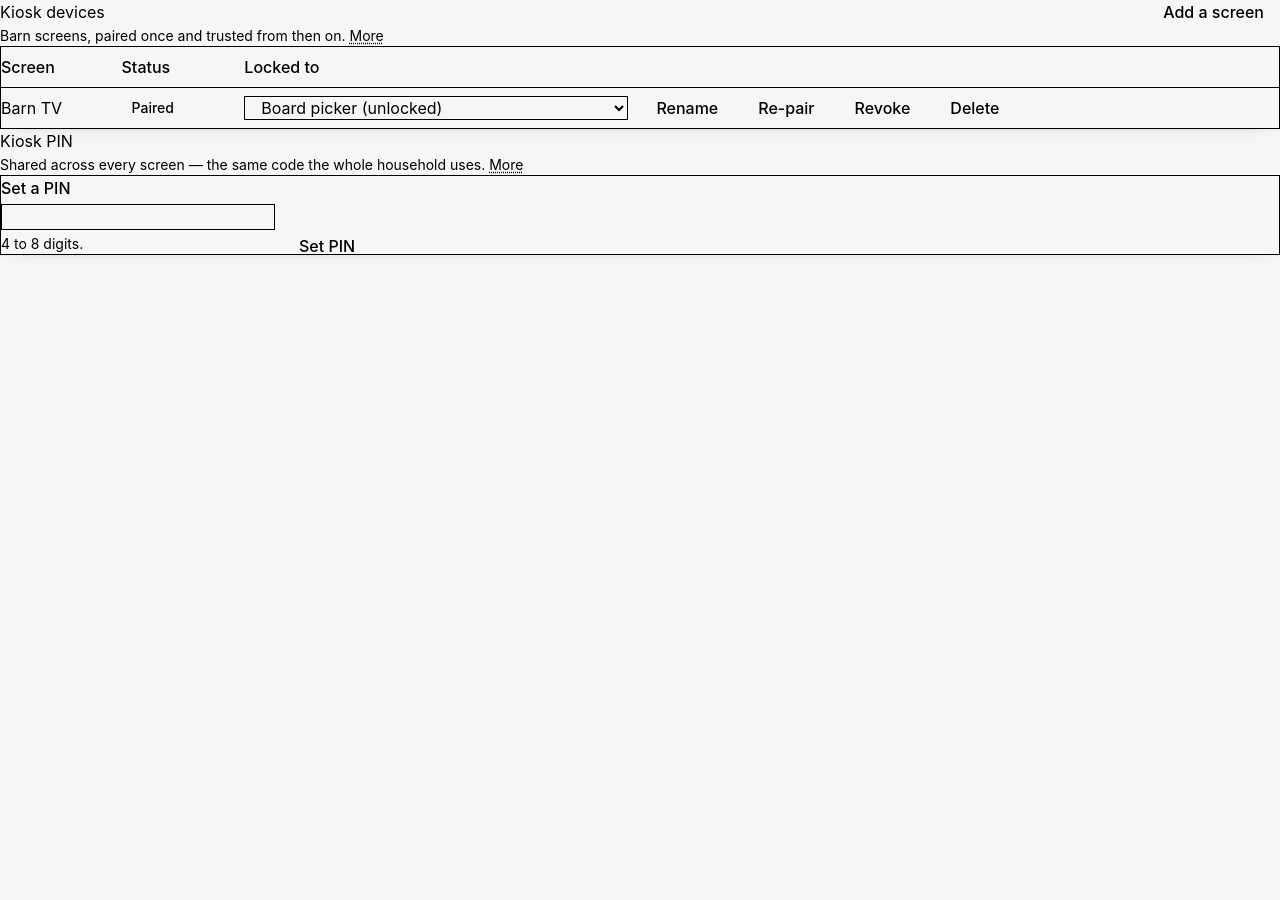
Test: deleting a screen › says a live screen goes dark, and that a restore brings it back
Click the button "Delete".
click(975, 108)  # box left=934, top=100, right=1015, bottom=116
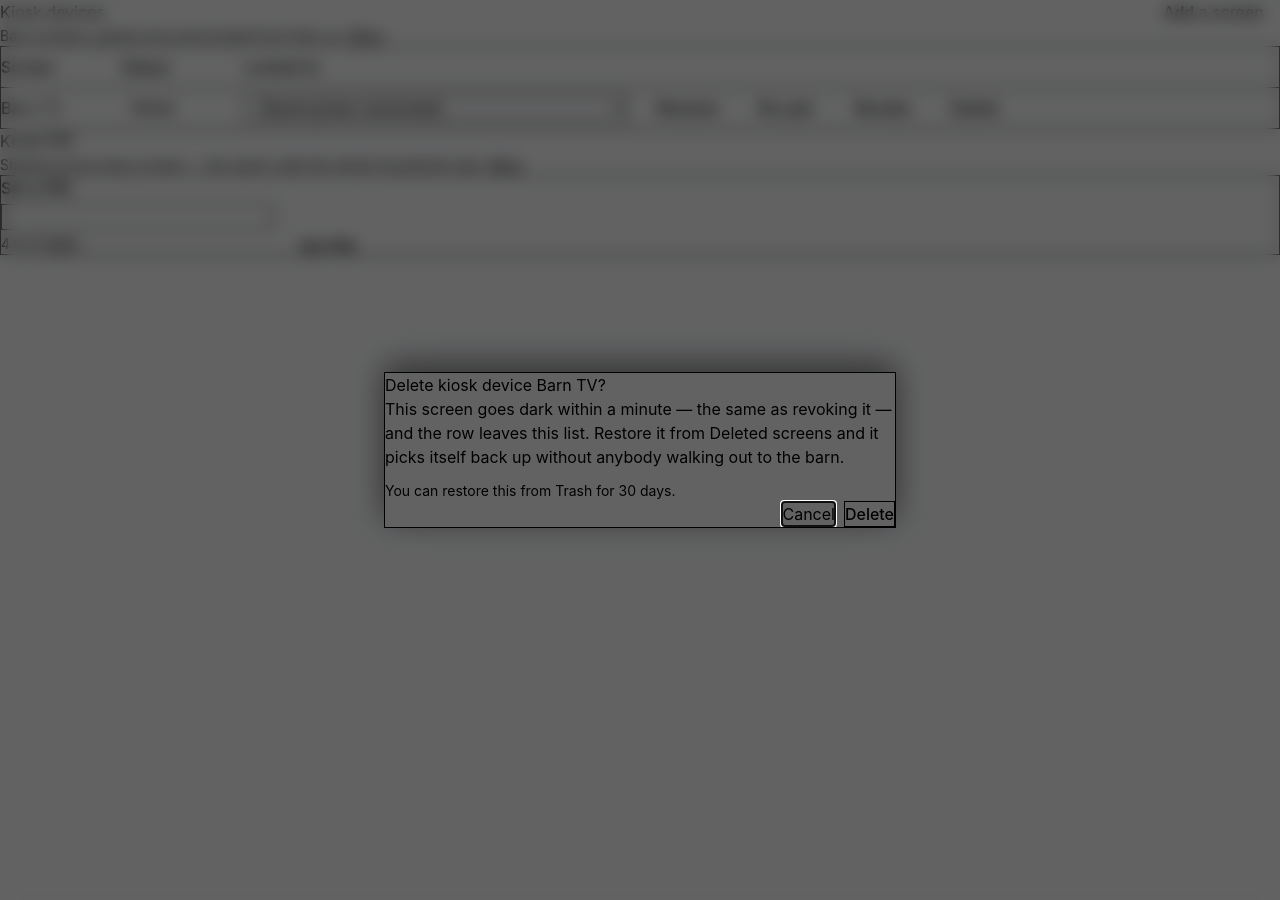
Result: the text "picks itself back up" is shown at left=385, top=399, right=892, bottom=467
